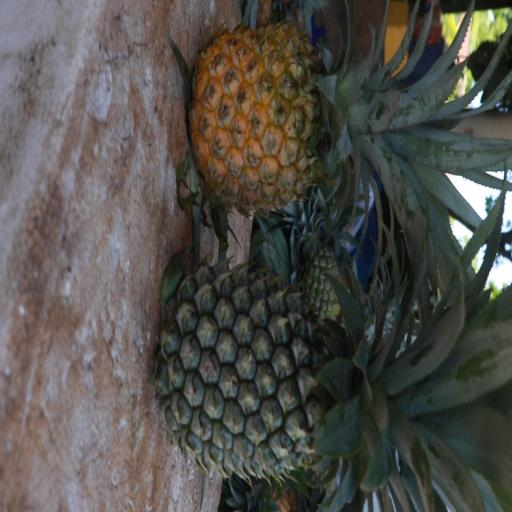Pineapple - v8 v1: (198, 26, 500, 210)
